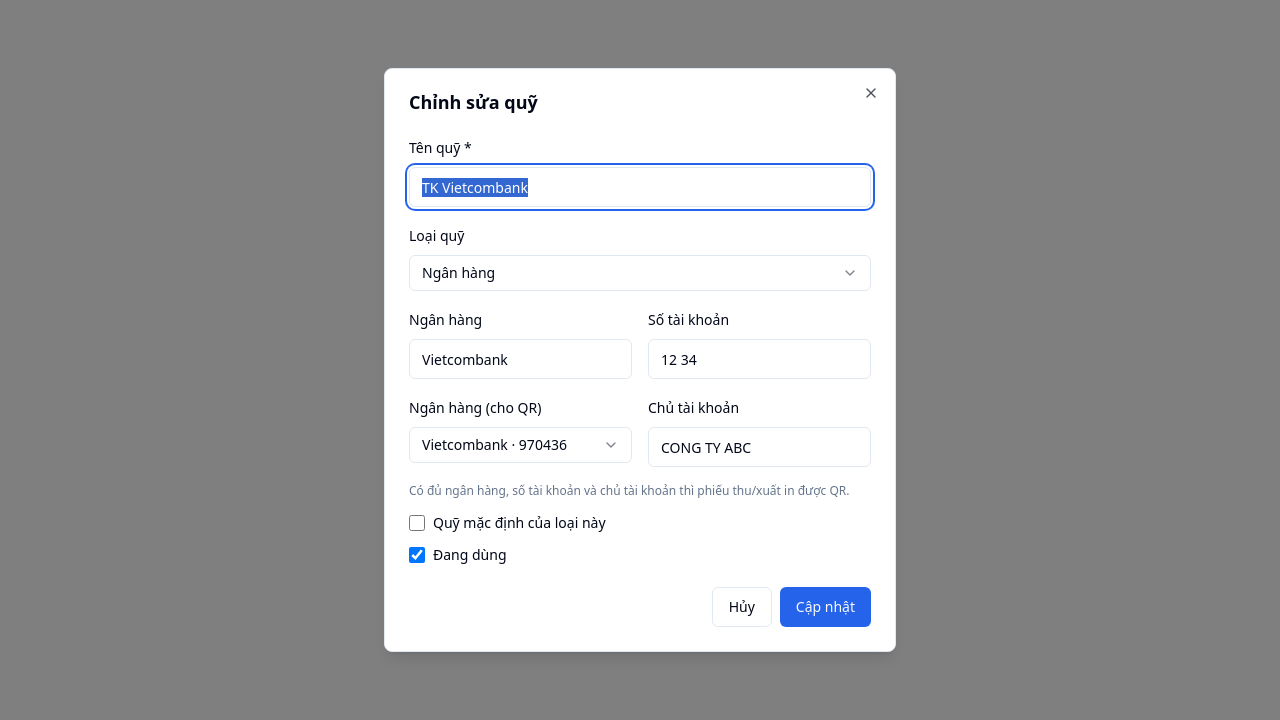
Test case: FundFormDialog bank fields › rejects_a_bad_account_number_with_a_bank
The width and height of the screenshot is (1280, 720).
Click the button "Cập nhật" at (825, 607), box x1=780 y1=587 x2=871 y2=627
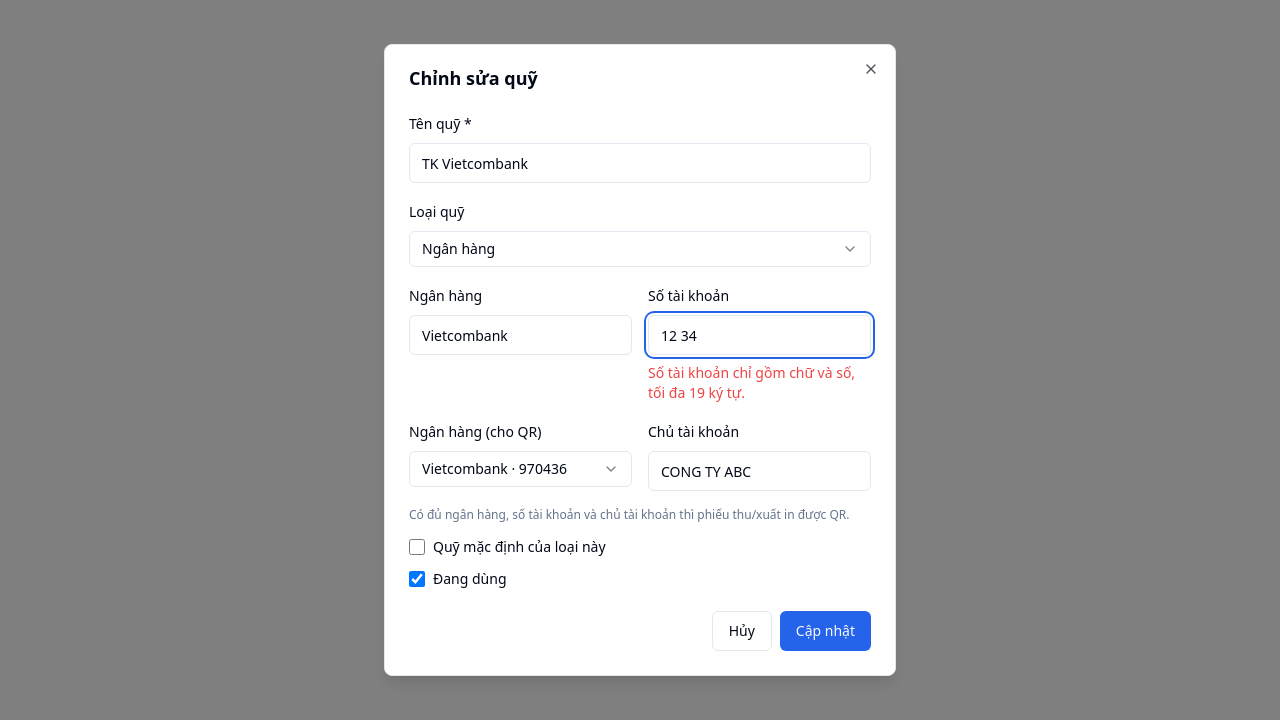
Check: the text "Số tài khoản chỉ gồm chữ và số, tối đa 19 ký tự." is shown, box x1=648 y1=363 x2=871 y2=403
